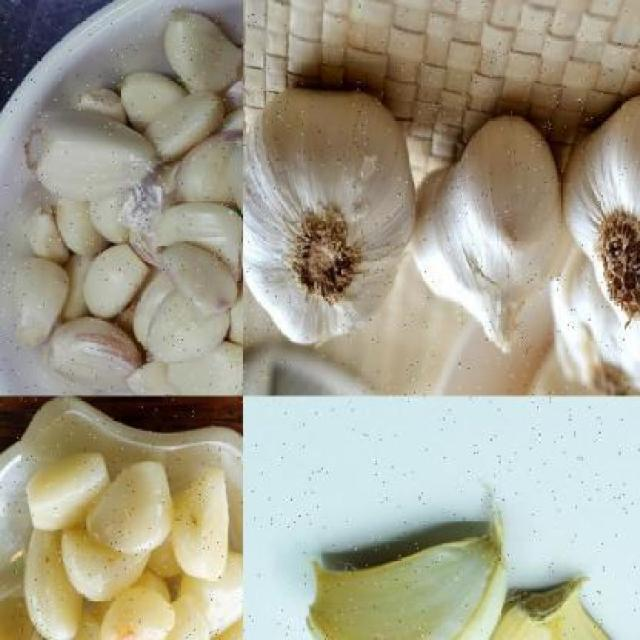garlic: (10, 0, 241, 395), (243, 80, 423, 354), (404, 98, 578, 357), (0, 456, 242, 638), (300, 530, 522, 639), (562, 94, 640, 372), (21, 108, 164, 206), (478, 566, 639, 640), (78, 460, 175, 554), (169, 464, 234, 582), (54, 530, 154, 601), (76, 238, 158, 324), (144, 88, 225, 162)
